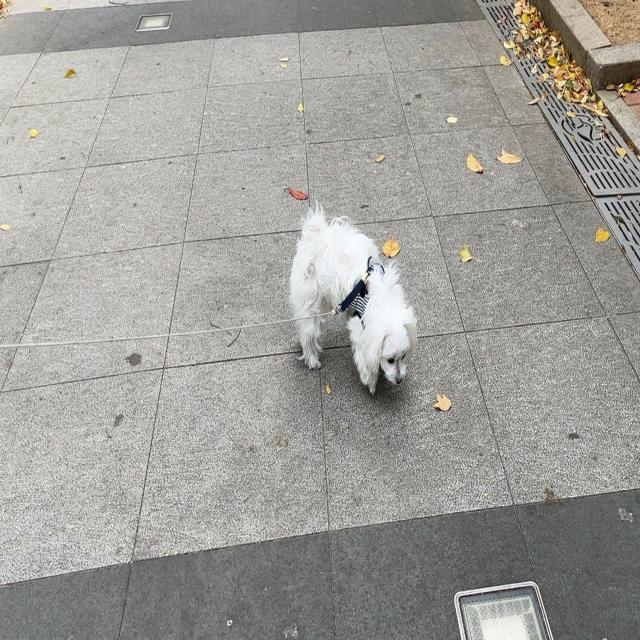Dog: (289, 197, 418, 396)
